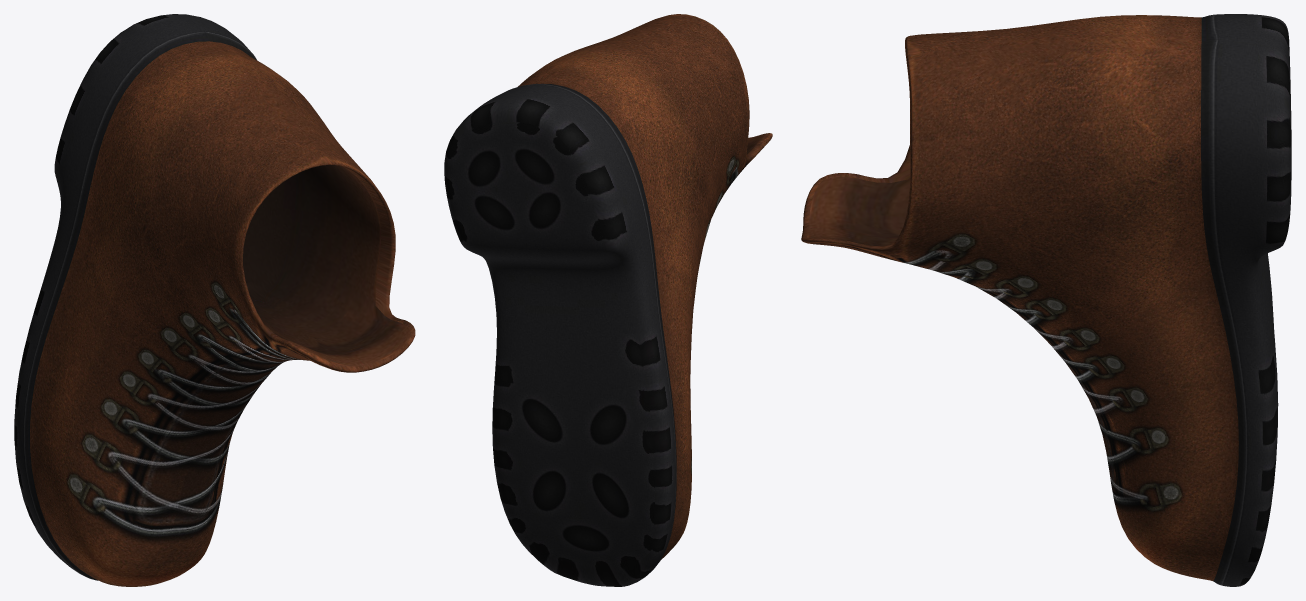
The model's file is bota.obj.
3 views of the same model, side by side, from view 1: azimuth 30°, elevation 25°; view 2: azimuth 150°, elevation 25°; view 3: azimuth 270°, elevation 25° (orthographic). The views are drawn at different scales.
Visible parts, largest first — view 1: 10142_HikingBoot_v02; view 2: 10142_HikingBoot_v02; view 3: 10142_HikingBoot_v02.
Boxes of the visible parts, x1,y1,x2,y2 form: 10142_HikingBoot_v02: [14, 14, 415, 586]; 10142_HikingBoot_v02: [444, 14, 772, 586]; 10142_HikingBoot_v02: [801, 14, 1291, 586].
Size of the model in its own units: 15.02 by 32.14 by 24.65.
